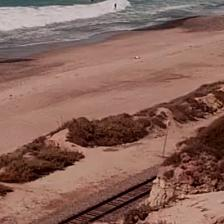surfer: (114, 3, 118, 10), (89, 0, 94, 2)
